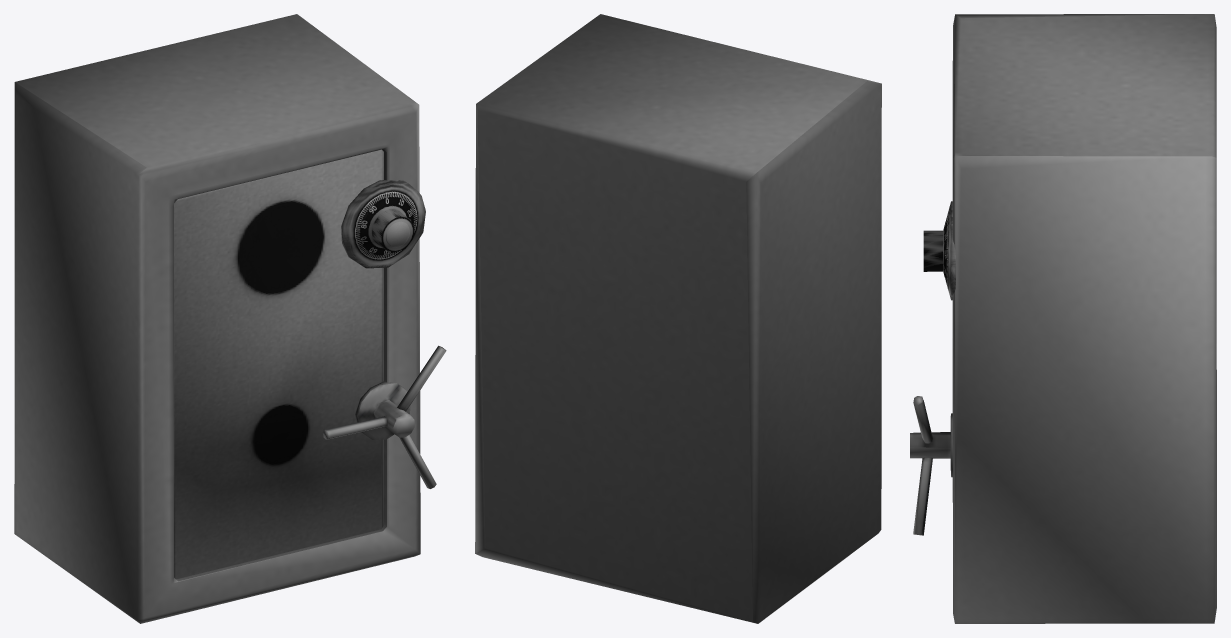
File: safe.glb
The picture shows the model from 3 angles, left to right: view 1: azimuth 30°, elevation 25°; view 2: azimuth 150°, elevation 25°; view 3: azimuth 270°, elevation 25°; orthographic projection. The views are drawn at different scales.
Visible parts, largest first — view 1: Safe, Door, Knob, Handle; view 2: Safe; view 3: Safe, Handle, Knob.
Boxes of the visible parts, x1,y1,x2,y2 form: Safe: [14, 14, 420, 623]; Door: [174, 149, 383, 579]; Knob: [341, 180, 425, 268]; Handle: [322, 345, 446, 488]; Safe: [475, 14, 881, 623]; Safe: [952, 14, 1216, 623]; Handle: [910, 396, 952, 535]; Knob: [923, 201, 955, 300].
Size of the model in its own units: 0.1036 by 0.154 by 0.0909.
Materials: 3 (3 with a texture image).
